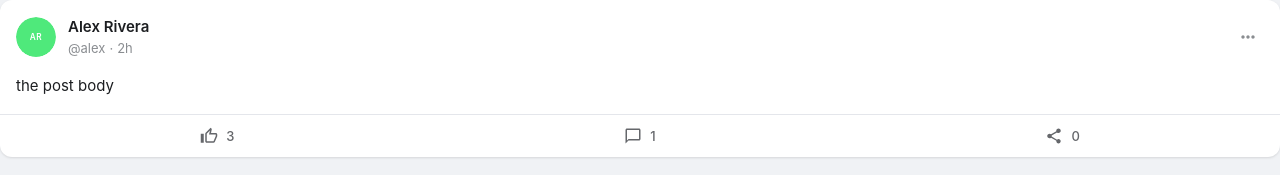
PostCard › liking POSTs to the like endpoint and updates the count from the response
Step 1. Click the button named "3 likes" → coordinates (217, 136), box [8, 119, 427, 153]
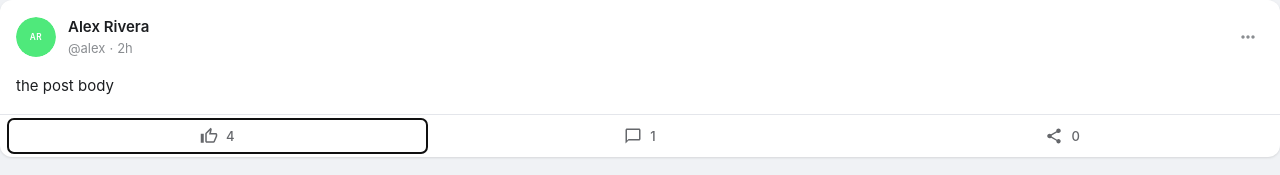
expect the button named "4 likes" is shown: met, box [8, 119, 427, 153]
